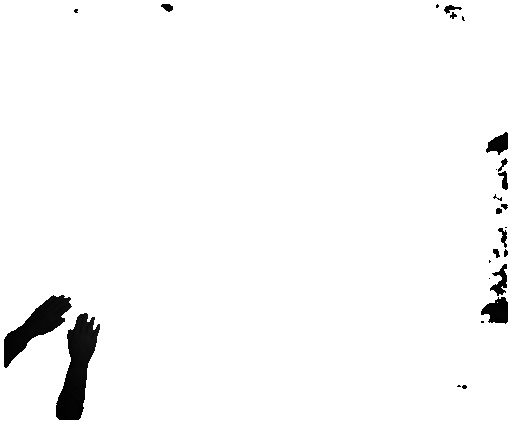hand: (22, 288, 74, 336), (68, 314, 103, 366)
